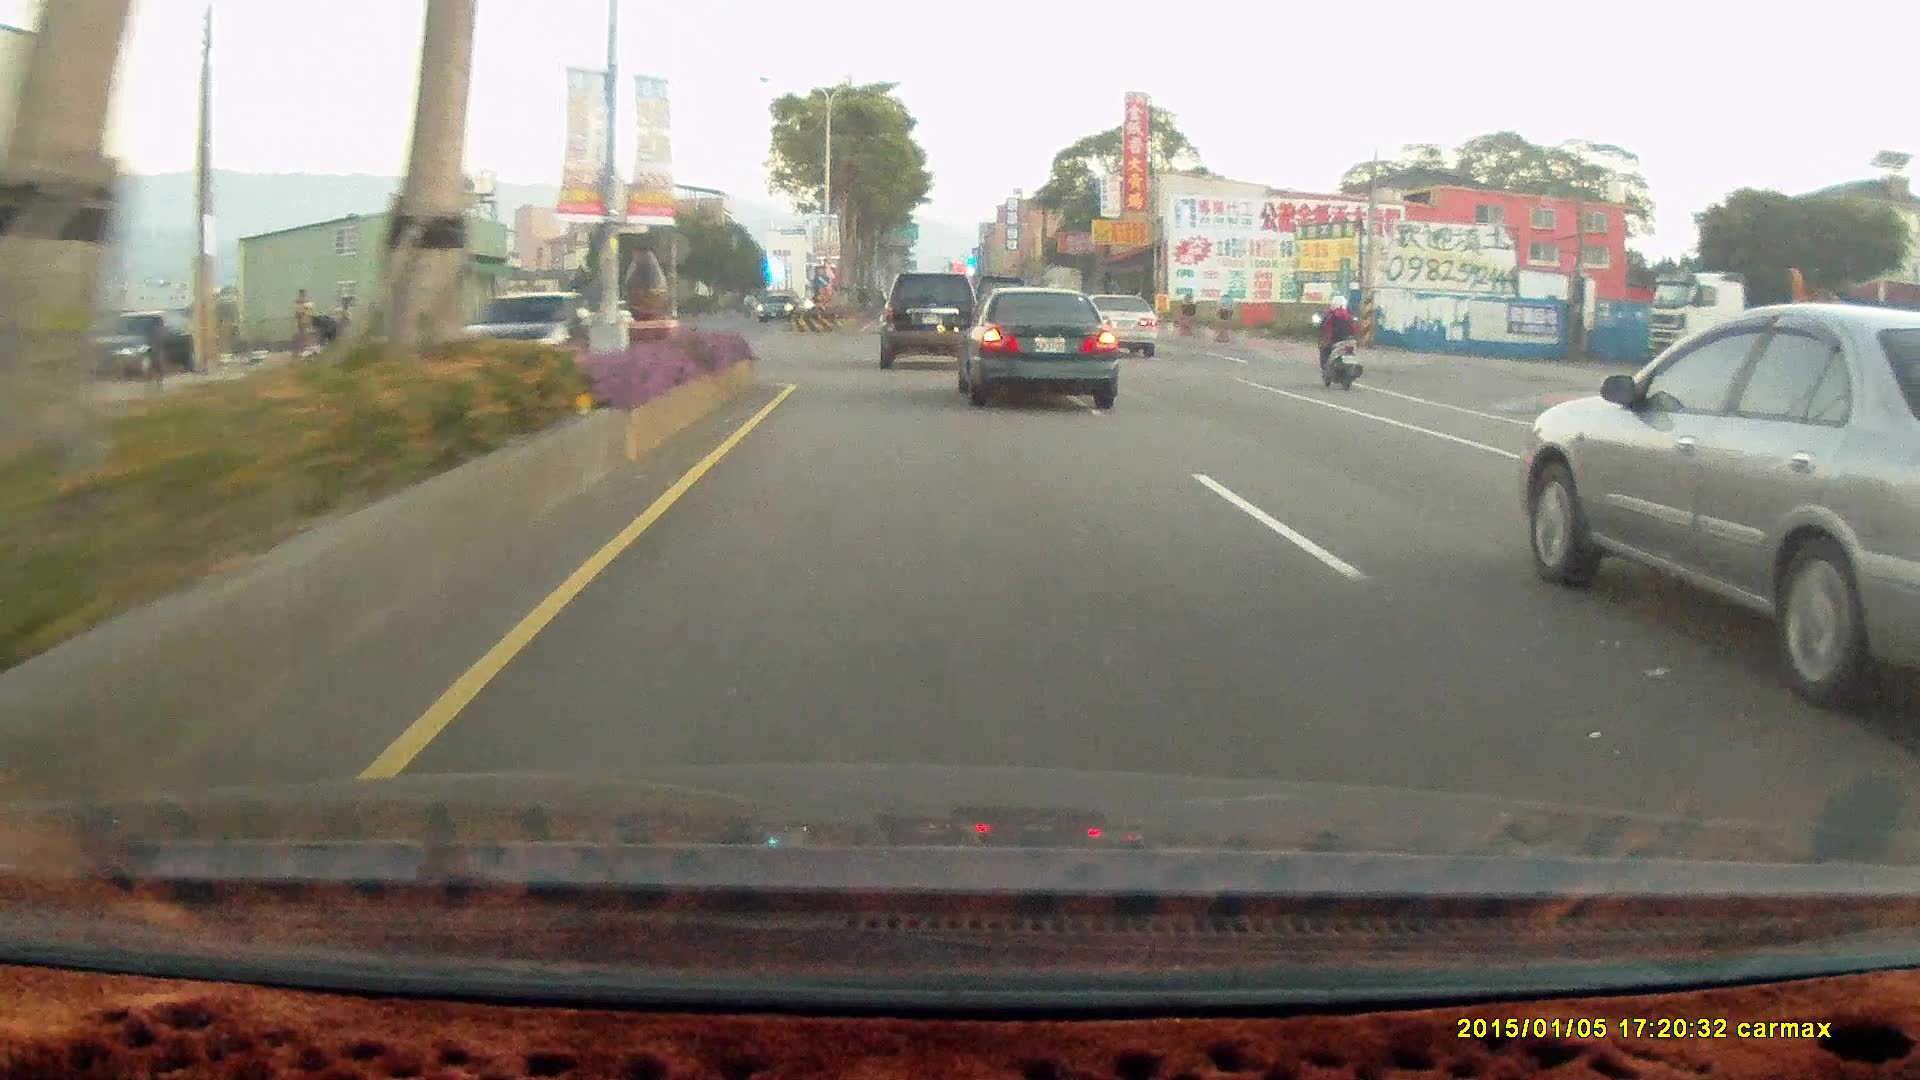pedestrian: (141, 316, 168, 390), (306, 313, 342, 363)
rider: (1304, 288, 1374, 398), (1308, 293, 1364, 390)
vehicle: (1524, 301, 1920, 713), (1645, 271, 1920, 371), (945, 291, 1111, 412), (962, 295, 1125, 415), (459, 292, 602, 384), (459, 288, 601, 380), (880, 274, 986, 374), (878, 273, 979, 369), (68, 312, 189, 386), (73, 313, 192, 384), (1077, 294, 1162, 359), (752, 297, 803, 329), (755, 293, 801, 323)
